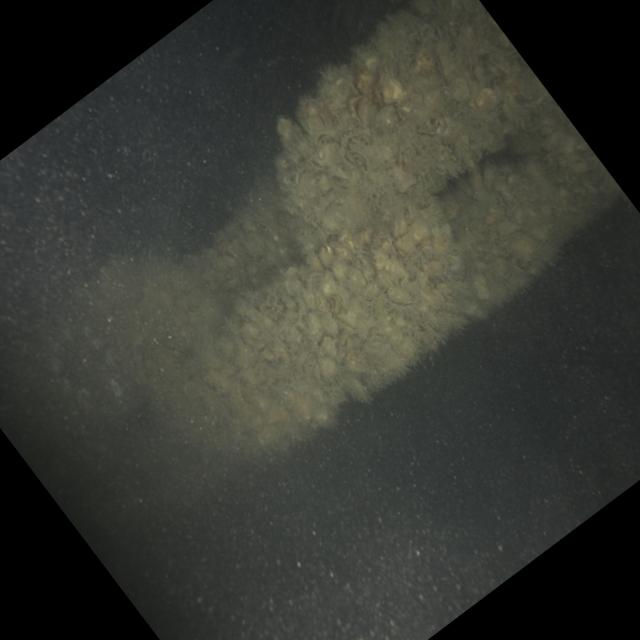ChainLink: (280, 0, 624, 317), (202, 193, 484, 444)
